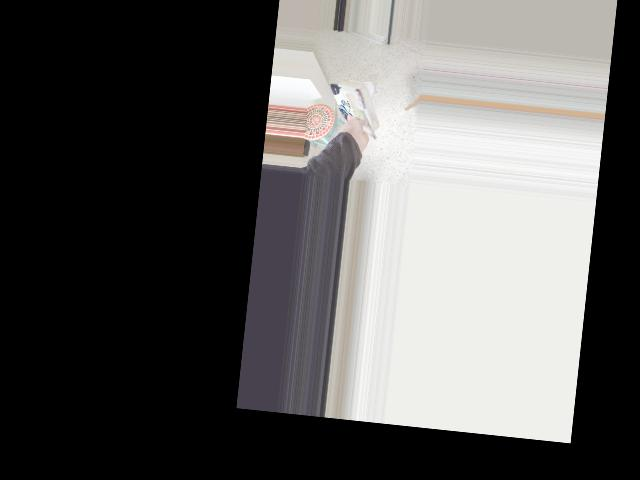cheese: (314, 75, 390, 153)
